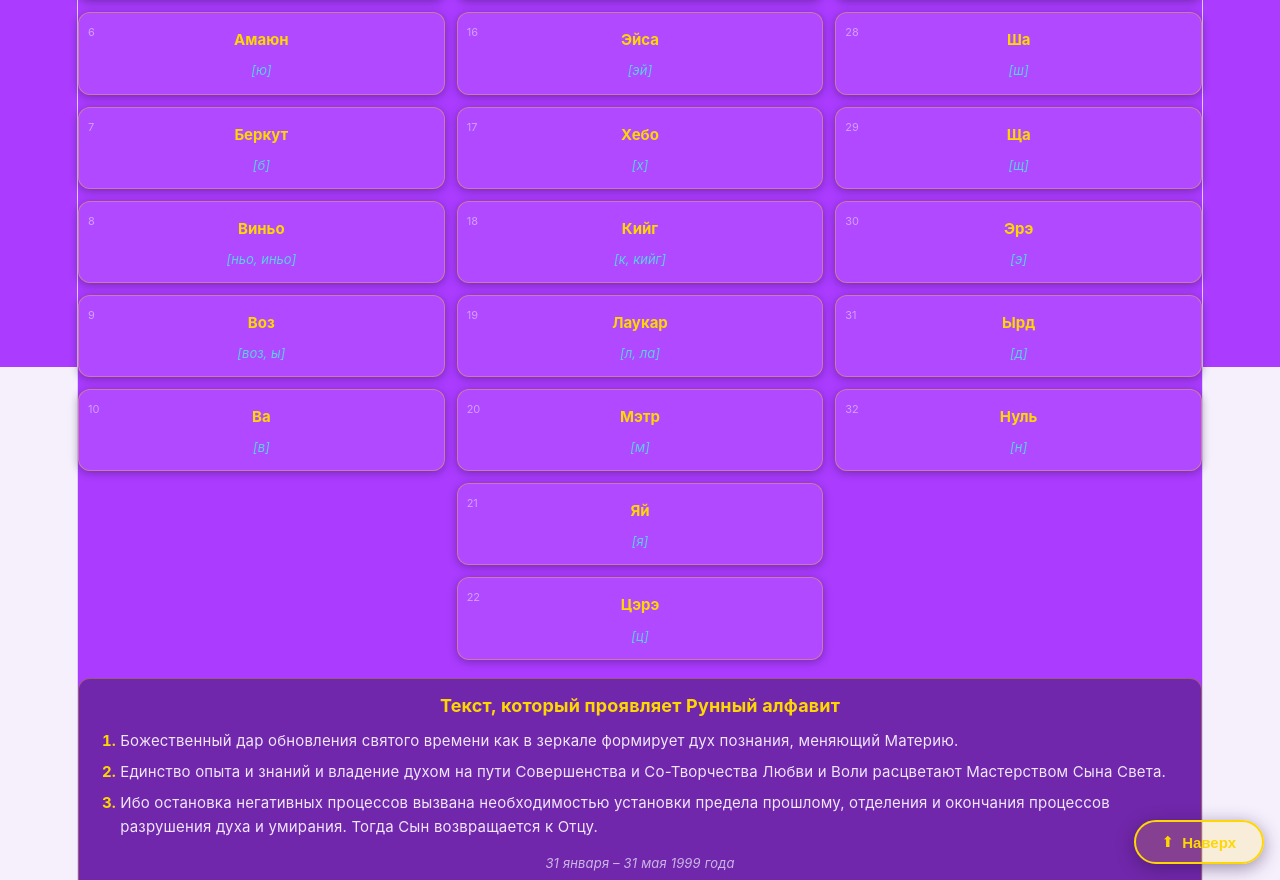
Test: Рунный алфавит: модалка описания руны › клик по знаку-перевёртышу открывает описание перевёрнутого положения
(page scrolled)
Click the button with aria-label "Описание руны Ва" at (94, 409), box 78,389 -> 445,471
(page scrolled)
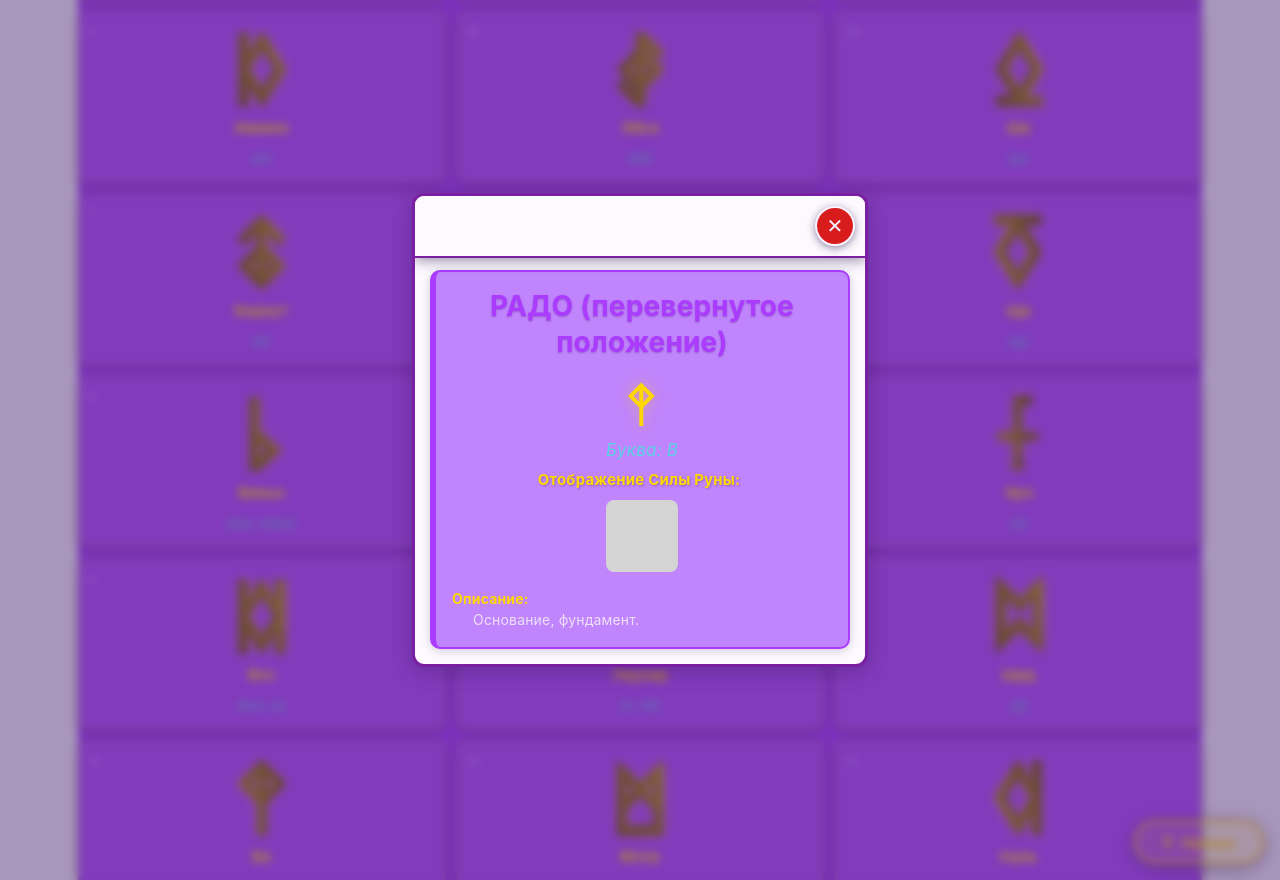
Now the heading "РАДО (перевернутое положение)" is shown, box 490,289 -> 801,359
Now the text "Основание, фундамент." is shown, box 473,612 -> 639,628
